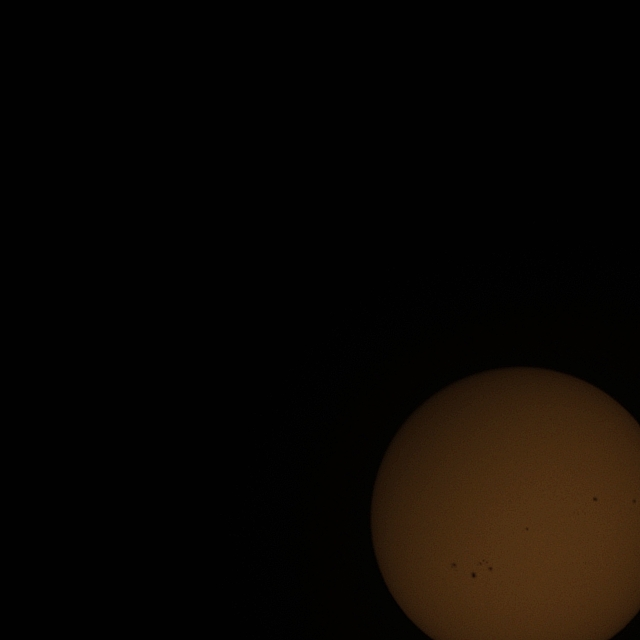sunspot: (475, 558, 493, 574), (470, 571, 477, 580), (451, 562, 457, 569), (592, 495, 598, 502), (632, 498, 638, 504)
